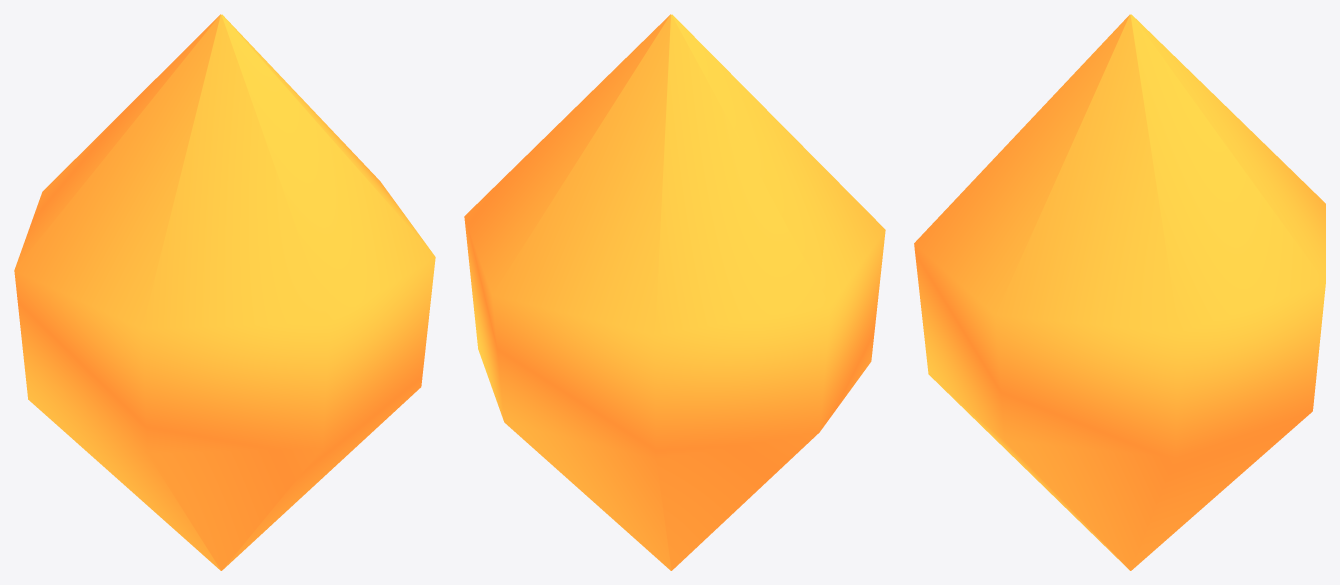
Rendered from emberstone.glb.
The picture shows the model from 3 angles, left to right: view 1: azimuth 30°, elevation 25°; view 2: azimuth 150°, elevation 25°; view 3: azimuth 270°, elevation 25°; orthographic projection.
Visible parts, largest first — view 1: emberstone; view 2: emberstone; view 3: emberstone.
Boxes of the visible parts, x1,y1,x2,y2 form: emberstone: (14,14,435,570); emberstone: (464,14,885,570); emberstone: (914,14,1325,570).
Size of the model in its own units: 0.0585 by 0.085 by 0.057.
